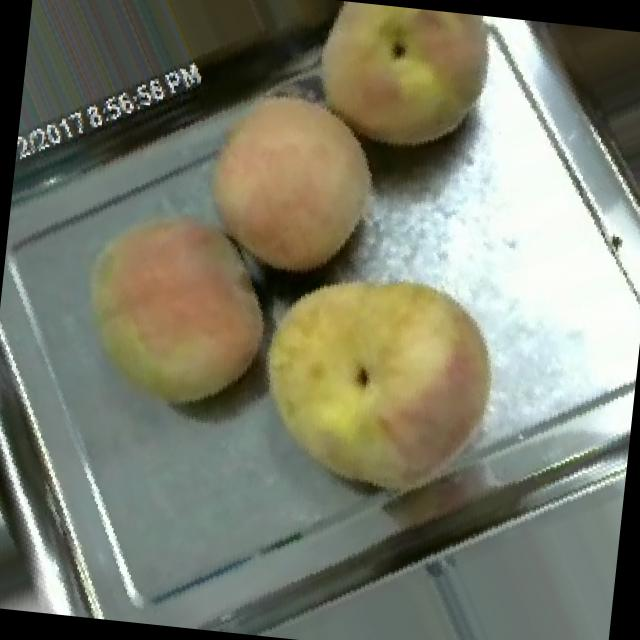Fruit: (214, 225, 536, 534), (48, 174, 301, 444), (168, 52, 414, 302), (274, 0, 522, 184)
